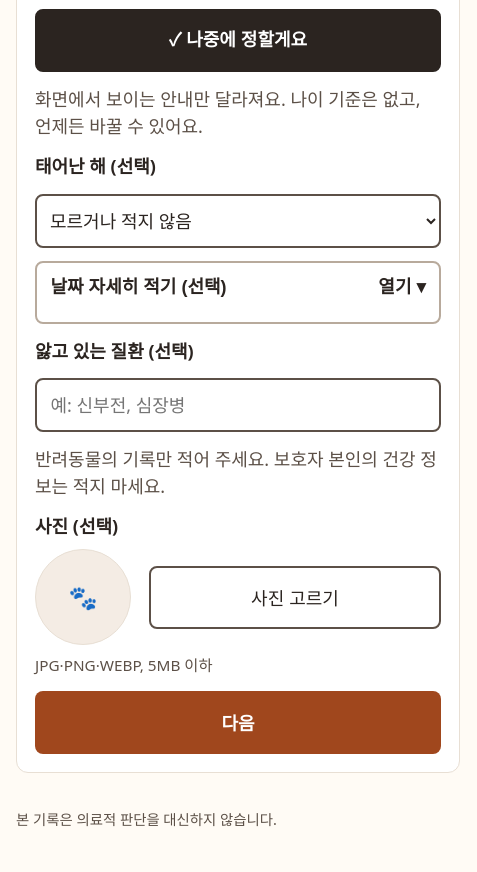
it: 반려동물 등록 화면 — 검증 › 비워 두고 제출하면 이름·종류 오류를 보이고 서버를 부르지 않는다
(page scrolled)
Click the button "다음" at point(238, 722), box 35,691 -> 441,754
(page scrolled)
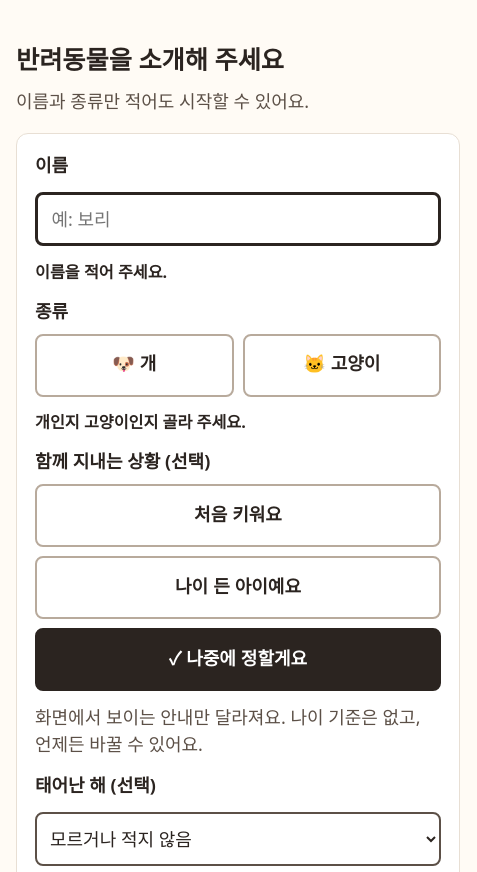
Expected: the text "이름을 적어 주세요." is shown, 35,261 -> 167,283
Expected: the text "개인지 고양이인지 골라 주세요." is shown, 35,411 -> 246,433
